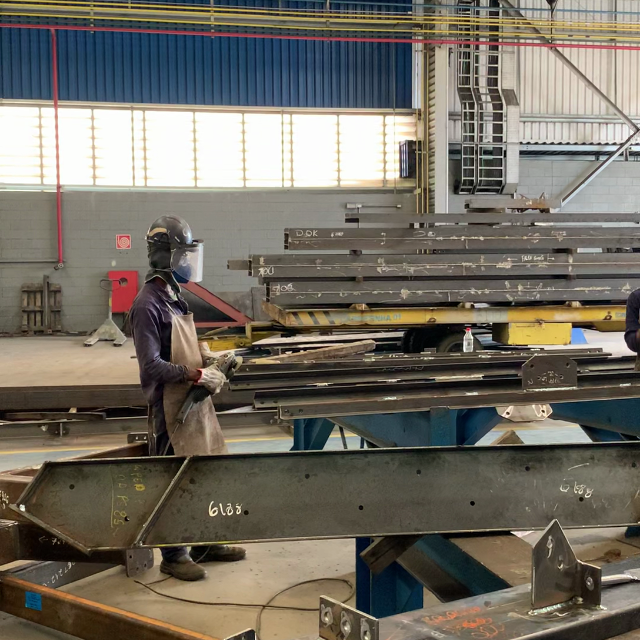face-shield: (168, 235, 200, 284)
glove: (196, 365, 229, 391)
helmet: (138, 216, 188, 238)
person: (132, 205, 237, 451)
safety-shoe: (158, 551, 209, 581), (188, 541, 249, 563)
